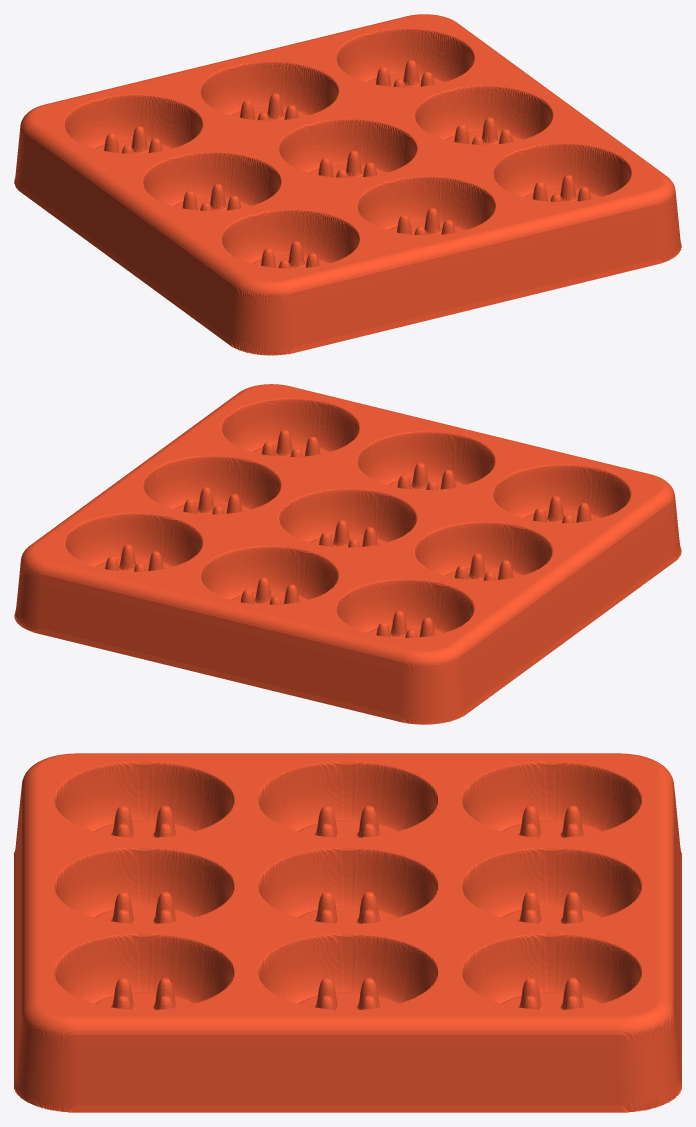
The model's file is mold.glb.
3 views of the same model, one above another, from view 1: azimuth 30°, elevation 25°; view 2: azimuth 150°, elevation 25°; view 3: azimuth 270°, elevation 25° (orthographic). The views are drawn at different scales.
Parts seen in each view (by area): view 1: geometry_0; view 2: geometry_0; view 3: geometry_0.
Part boxes in pixels (x1=…): geometry_0: x1=14, y1=14, x2=681, y2=355; geometry_0: x1=14, y1=384, x2=681, y2=724; geometry_0: x1=14, y1=753, x2=681, y2=1112.
Bounding box in the file's own units: 0.0964 × 0.0136 × 0.0964.
